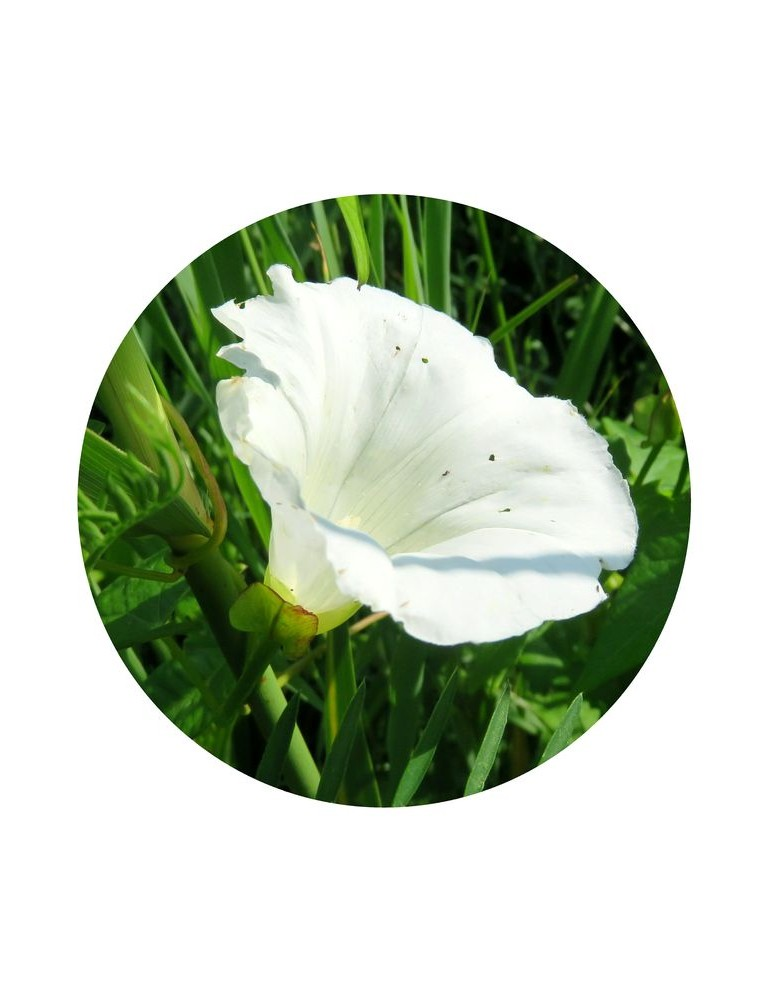haagwinde: (193, 241, 670, 706)
